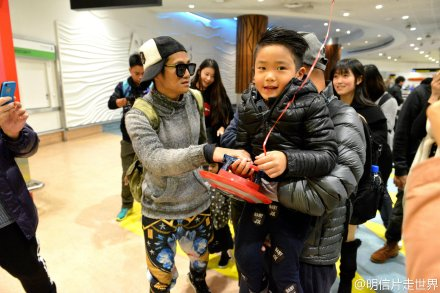other: (205, 24, 334, 283), (122, 35, 229, 291)
